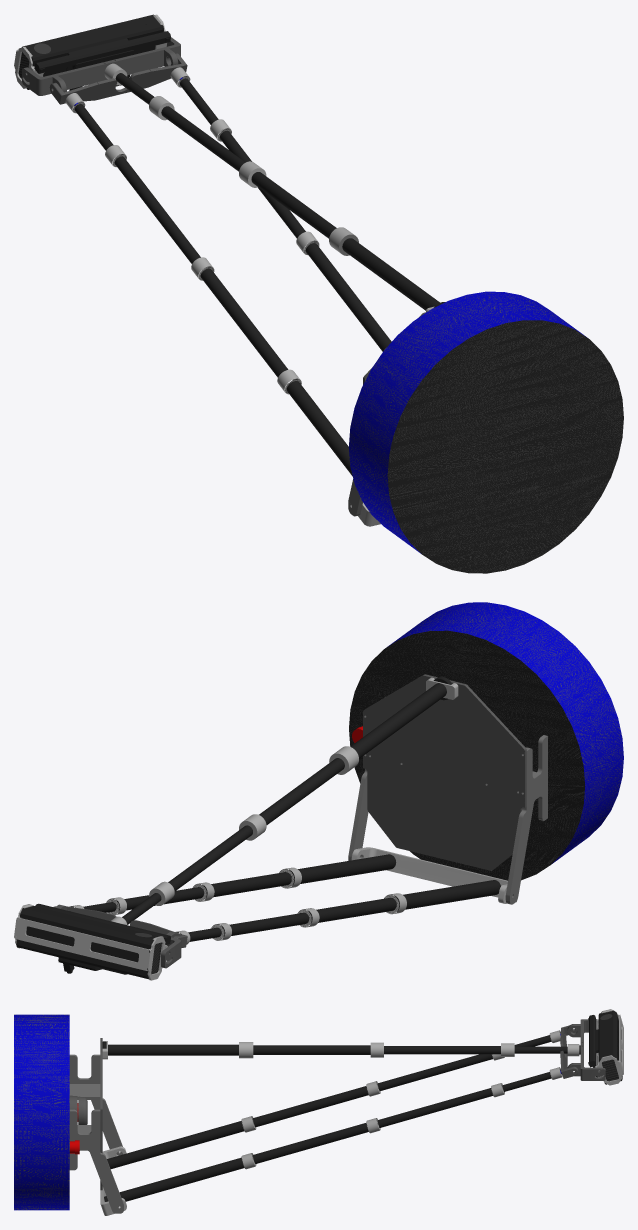
The model's file is wpb_home_std.dae.
3 views of the same model, one above another, from view 1: azimuth 30°, elevation 25°; view 2: azimuth 150°, elevation 25°; view 3: azimuth 270°, elevation 25° (orthographic). The views are drawn at different scales.
Parts seen in each view (by area): view 1: SketchUp (×10), GROUP_14 (×2), GROUP_19, GROUP_22; view 2: SketchUp (×11), GROUP_6, GROUP_14 (×2), GROUP_3, GROUP_15, GROUP_7, GROUP_2, GROUP_22; view 3: SketchUp (×12), GROUP_2, GROUP_14 (×2), GROUP_3, GROUP_19, GROUP_22, GROUP_5, GROUP_7, GROUP_6.
Boxes of the visible parts, x1,y1,x2,y2 form: SketchUp (×10): (114, 106, 623, 573); GROUP_14 (×2): (18, 14, 170, 90); GROUP_19: (22, 37, 180, 95); GROUP_22: (49, 53, 187, 104); SketchUp (×11): (117, 602, 623, 936); GROUP_6: (363, 674, 526, 870); GROUP_14 (×2): (16, 903, 170, 978); GROUP_3: (505, 735, 547, 904); GROUP_15: (14, 917, 151, 970); GROUP_7: (351, 847, 516, 903); GROUP_2: (348, 755, 368, 860); GROUP_22: (53, 906, 187, 947); SketchUp (×12): (14, 1014, 567, 1210); GROUP_2: (69, 1109, 123, 1213); GROUP_14 (×2): (589, 1010, 622, 1084); GROUP_3: (69, 1054, 122, 1155); GROUP_19: (580, 1019, 605, 1080); GROUP_22: (560, 1025, 578, 1078); GROUP_5: (69, 1084, 100, 1099); GROUP_7: (100, 1146, 126, 1215); GROUP_6: (100, 1038, 102, 1190).
Size of the model in its own units: 17.72 by 55.18 by 17.72.
